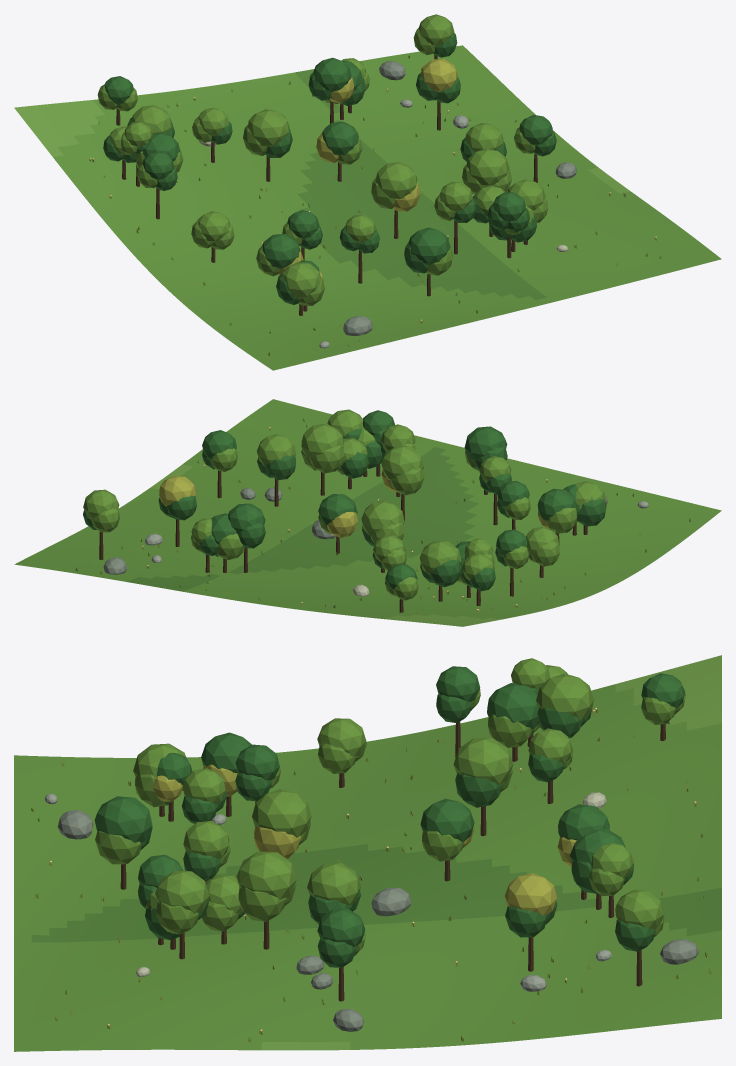
Rendered from Chunk_X3_Y0_Z0.fbx.
3 renders of one model, top to bottom at view 1: azimuth 30°, elevation 25°; view 2: azimuth 150°, elevation 25°; view 3: azimuth 270°, elevation 25°, orthographic. The views are drawn at different scales.
Parts seen in each view (by area): view 1: Terrain.045, Canopies.044, Trunks.044, Rocks.045, GroundCover.045; view 2: Terrain.045, Canopies.044, Trunks.044, Rocks.045, GroundCover.045; view 3: Terrain.045, Canopies.044, Rocks.045, Trunks.044, GroundCover.045.
Boxes of the visible parts, x1,y1,x2,y2 form: Terrain.045: (14,45,721,370); Canopies.044: (97,14,556,305); Trunks.044: (116,55,537,315); Rocks.045: (199,61,576,348); GroundCover.045: (89,54,661,355); Terrain.045: (14,399,721,626); Canopies.044: (83,409,606,600); Trunks.044: (99,464,587,612); Rocks.045: (103,485,648,596); GroundCover.045: (75,418,690,614); Terrain.045: (14,655,721,1051); Canopies.044: (94,658,685,967); Rocks.045: (45,792,699,1031); Trunks.044: (120,721,665,1001); GroundCover.045: (31,708,711,1042).
Size of the model in its own units: 100 by 23 by 100.
